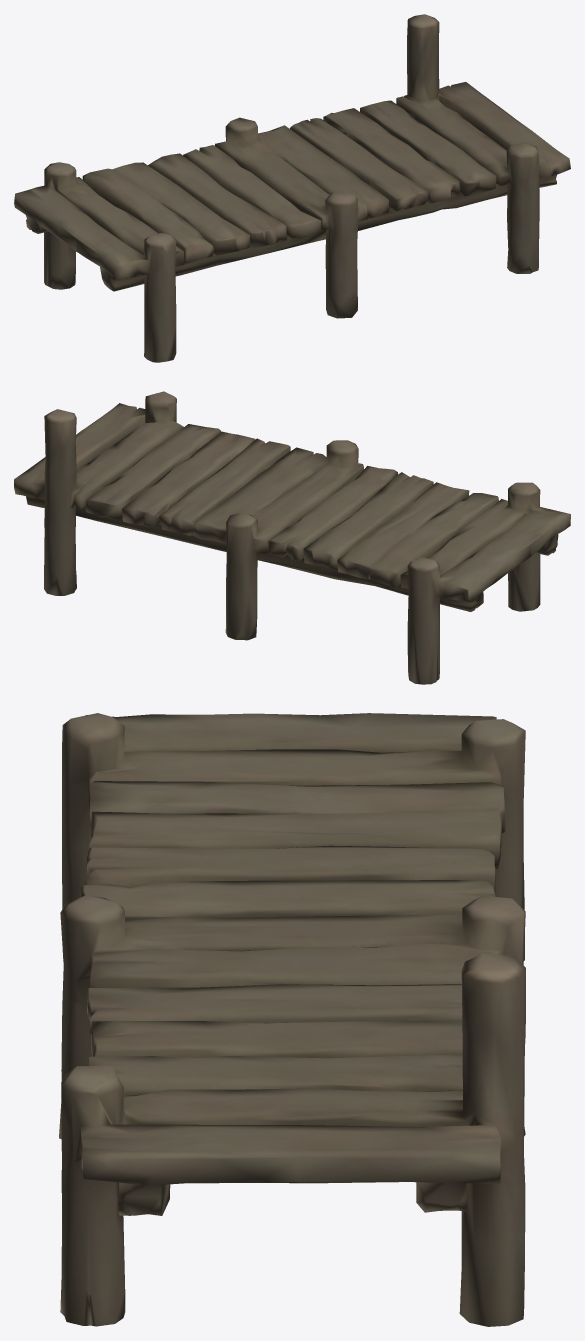
Rendered from jetty.glb.
3 renders of one model, top to bottom at view 1: azimuth 30°, elevation 25°; view 2: azimuth 150°, elevation 25°; view 3: azimuth 270°, elevation 25°, orthographic. The views are drawn at different scales.
Visible parts, largest first — view 1: tripo_node_17eb15dd-185b-4f8b-aa5a-1e6482c768b2; view 2: tripo_node_17eb15dd-185b-4f8b-aa5a-1e6482c768b2; view 3: tripo_node_17eb15dd-185b-4f8b-aa5a-1e6482c768b2.
Boxes of the visible parts, bbox=[...] form: tripo_node_17eb15dd-185b-4f8b-aa5a-1e6482c768b2: bbox=[14, 14, 570, 362]; tripo_node_17eb15dd-185b-4f8b-aa5a-1e6482c768b2: bbox=[14, 391, 570, 684]; tripo_node_17eb15dd-185b-4f8b-aa5a-1e6482c768b2: bbox=[59, 713, 525, 1326].
Size of the model in its own units: 1 by 0.3694 by 0.4448.
Materials: 1 (1 with a texture image).
